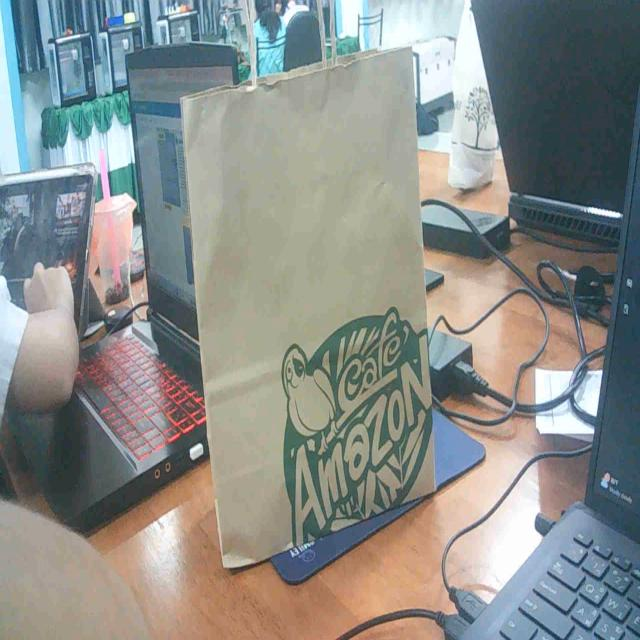bag: (180, 38, 432, 555)
